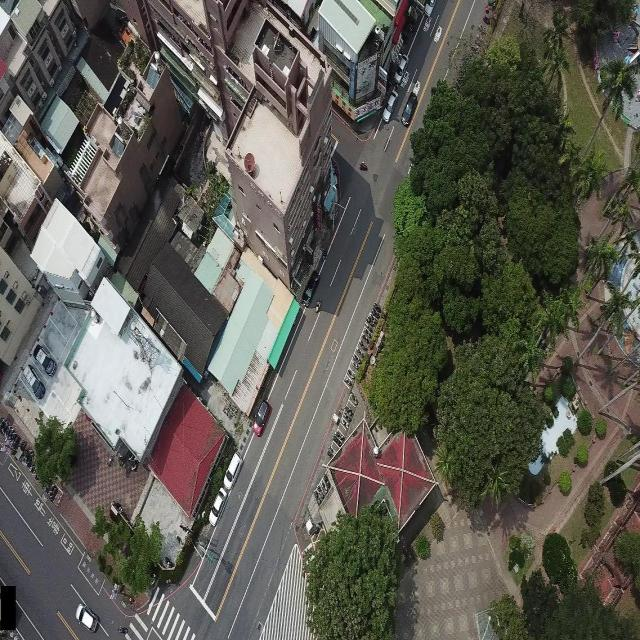car: (223, 451, 243, 490), (22, 362, 43, 398), (210, 487, 228, 526), (253, 400, 271, 437), (75, 602, 97, 632), (401, 92, 418, 125), (382, 90, 398, 123)
